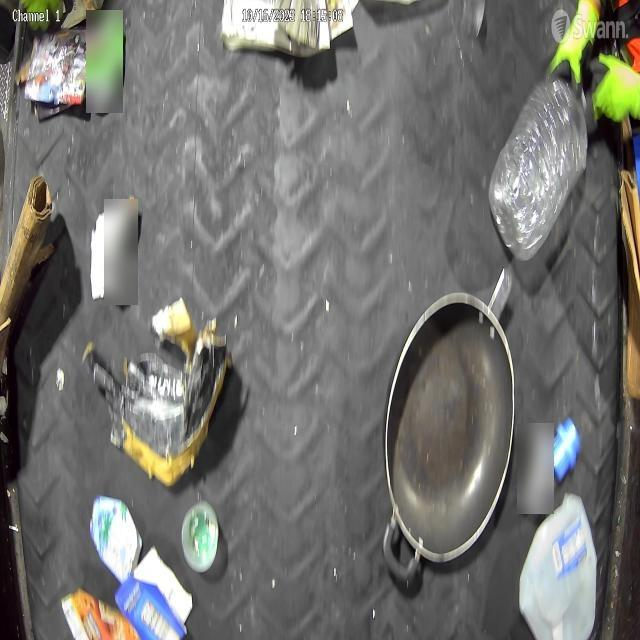milk_jug: (518, 490, 597, 640)
plastic_bottle: (488, 79, 588, 260)
